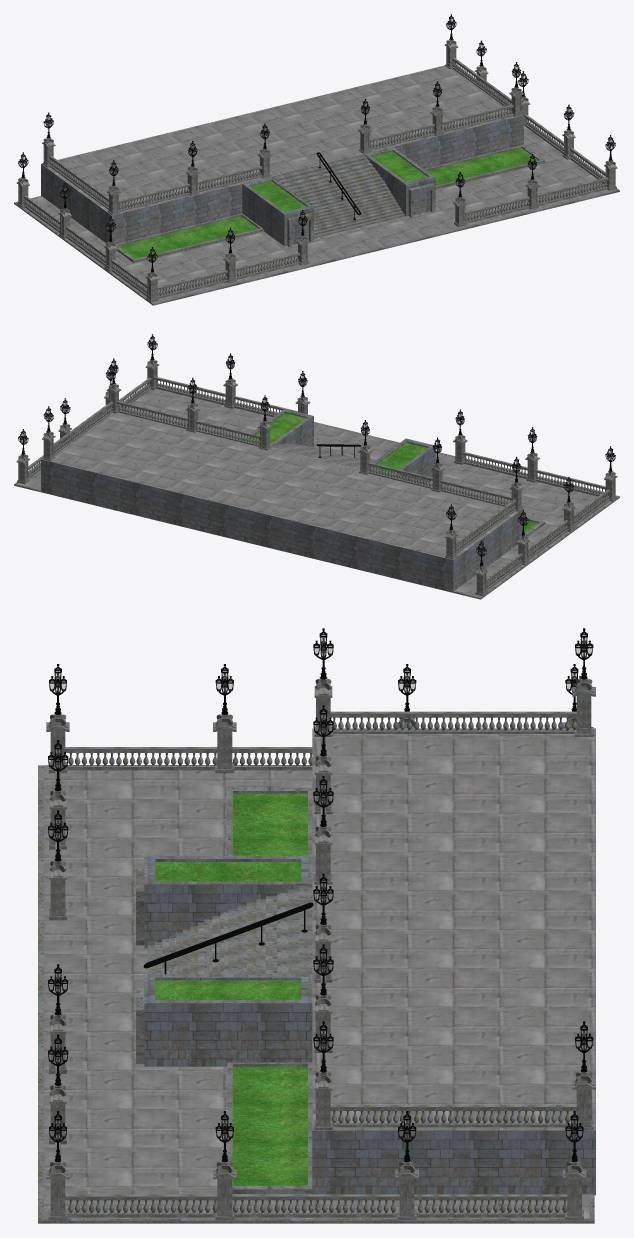
File: fbxStairs.fbx
3 views of the same model, one above another, from view 1: azimuth 30°, elevation 25°; view 2: azimuth 150°, elevation 25°; view 3: azimuth 270°, elevation 25° (orthographic). The views are drawn at different scales.
Visible parts, largest first — view 1: structure, floor, fence (×8), stairs1, lamp18 (×8), grass, lamp17 (×6), grass1, lamp (×3), fence14, lamp19; view 2: structure, floor, fence (×8), lamp18 (×7), lamp17 (×5), lamp (×3), lamp19 (×2), stairs1, fence14; view 3: structure, floor, fence (×4), grass1, lamp18 (×8), stairs1, lamp17 (×6), grass, lamp (×3), fence14, lamp19, pTorus6.
Boxes of the visible parts, left/top/right/bottom form: structure: left=41, top=65, right=523, bottom=246; floor: left=14, top=126, right=619, bottom=305; fence (×8): left=49, top=57, right=608, bottom=298; stairs1: left=273, top=155, right=404, bottom=238; lamp18 (×8): left=42, top=14, right=575, bottom=282; grass: left=115, top=213, right=263, bottom=262; lamp17 (×6): left=145, top=99, right=617, bottom=302; grass1: left=424, top=144, right=545, bottom=189; lamp (×3): left=58, top=62, right=523, bottom=238; fence14: left=24, top=195, right=59, bottom=232; lamp19: left=16, top=152, right=29, bottom=207; structure: left=41, top=409, right=523, bottom=591; floor: left=14, top=384, right=619, bottom=599; fence (×8): left=53, top=376, right=609, bottom=559; lamp18 (×7): left=42, top=353, right=575, bottom=559; lamp17 (×5): left=145, top=334, right=617, bottom=501; lamp (×3): left=106, top=358, right=530, bottom=565; lamp19 (×2): left=16, top=429, right=488, bottom=595; stairs1: left=273, top=443, right=373, bottom=467; fence14: left=486, top=553, right=522, bottom=590; structure: left=136, top=728, right=595, bottom=1195; floor: left=38, top=765, right=594, bottom=1223; fence (×4): left=65, top=711, right=576, bottom=1217; grass1: left=226, top=1062, right=312, bottom=1193; lamp18 (×8): left=48, top=628, right=595, bottom=1220; stairs1: left=147, top=886, right=312, bottom=974; lamp17 (×6): left=46, top=664, right=333, bottom=1220; grass: left=226, top=787, right=312, bottom=855; lamp (×3): left=313, top=628, right=418, bottom=1220; fence14: left=414, top=1194, right=567, bottom=1217; lamp19: left=562, top=1111, right=586, bottom=1220; pTorus6: left=143, top=902, right=313, bottom=974.
Size of the model in its own units: 11.77 by 2.06 by 6.09.
6 materials, 4 textured.
